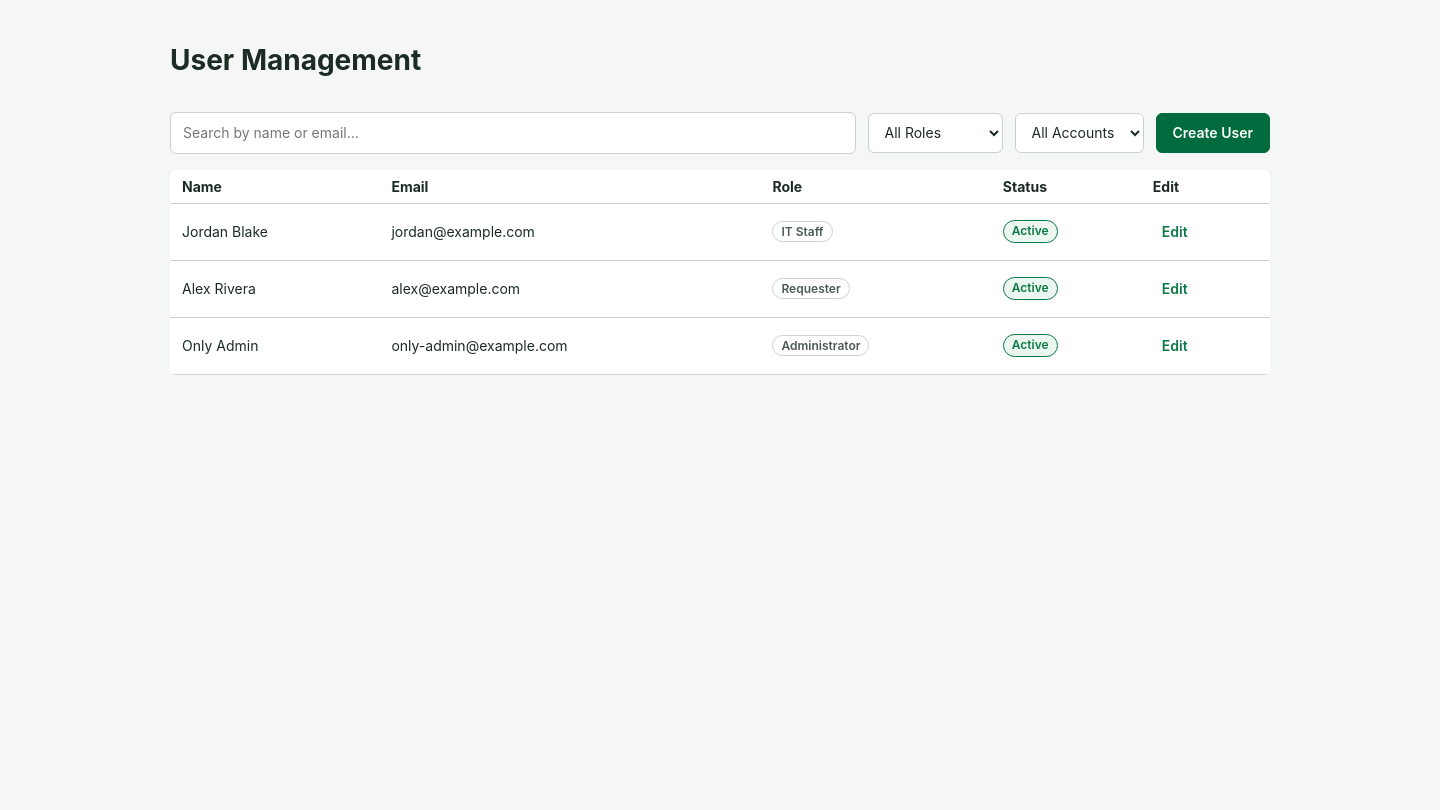
Test: UserManagement › on a 409 from the Create form, an inline message renders beside the Email field and form values are preserved
Click the button "Create User" at {"x": 1213, "y": 132}, box [1156,112,1270,152]
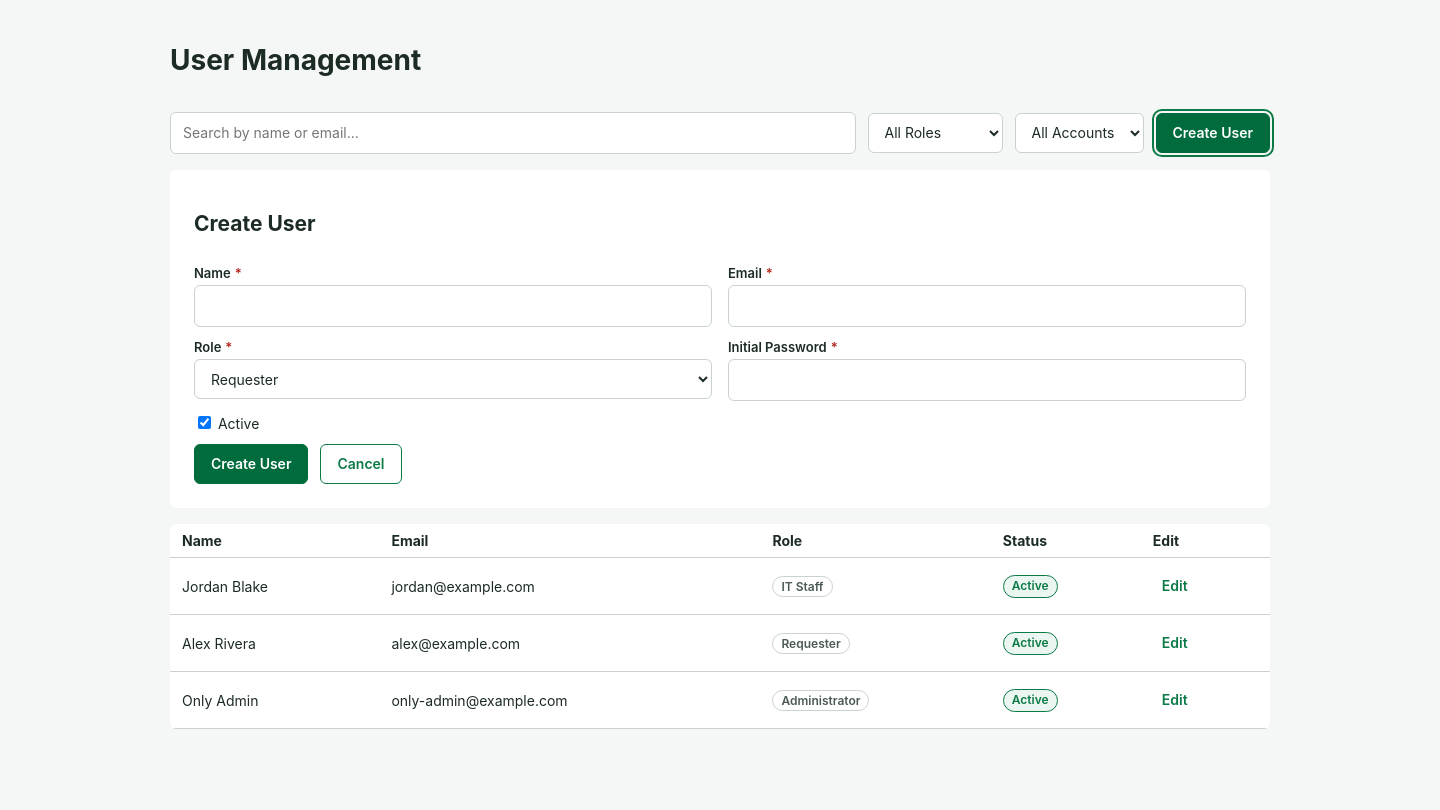
Type "Sam Okafor" into the field labelled "Name*" at {"x": 453, "y": 306}, box [194,285,712,327]
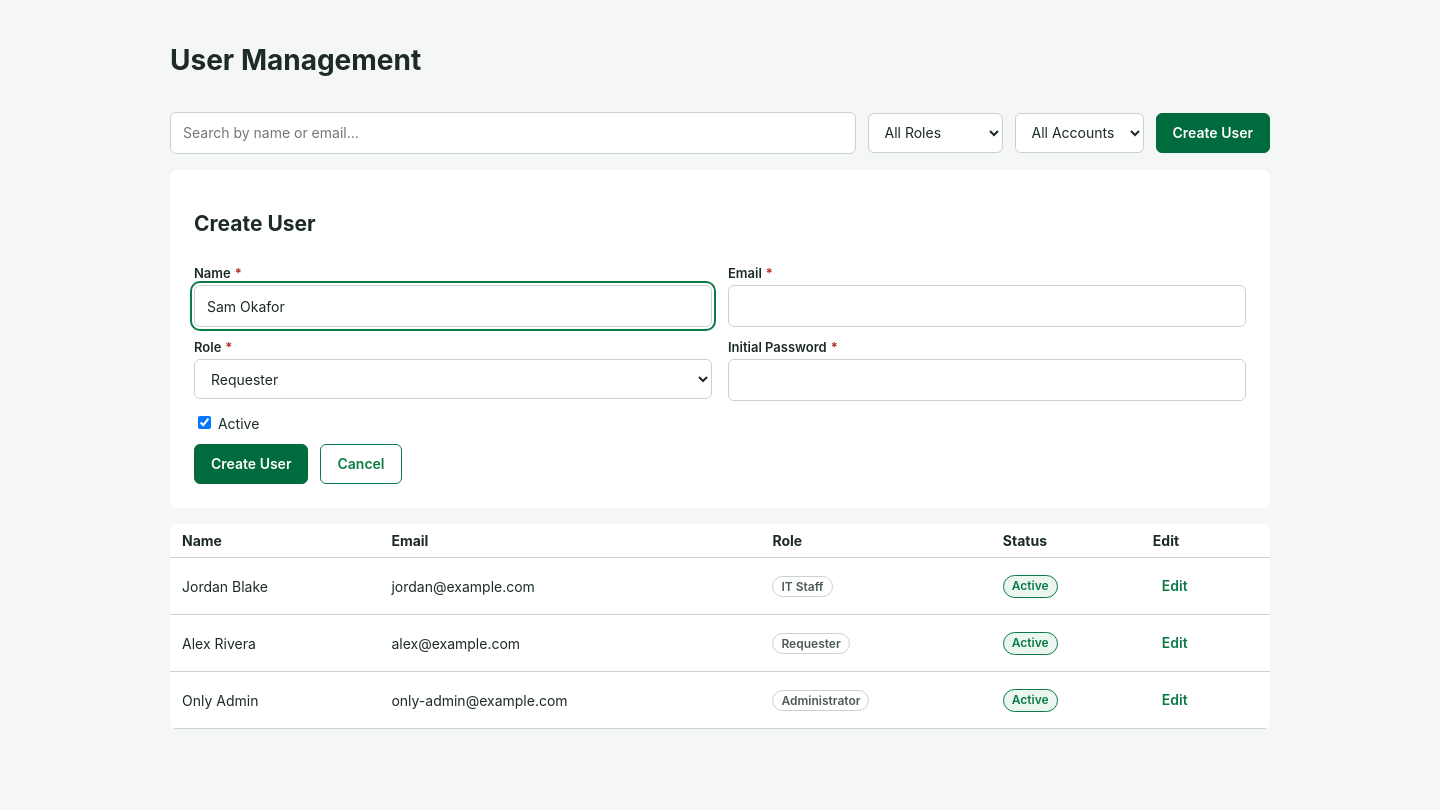
Type "taken@example.com" into the field labelled "Email*" at {"x": 987, "y": 306}, box [728,285,1246,327]
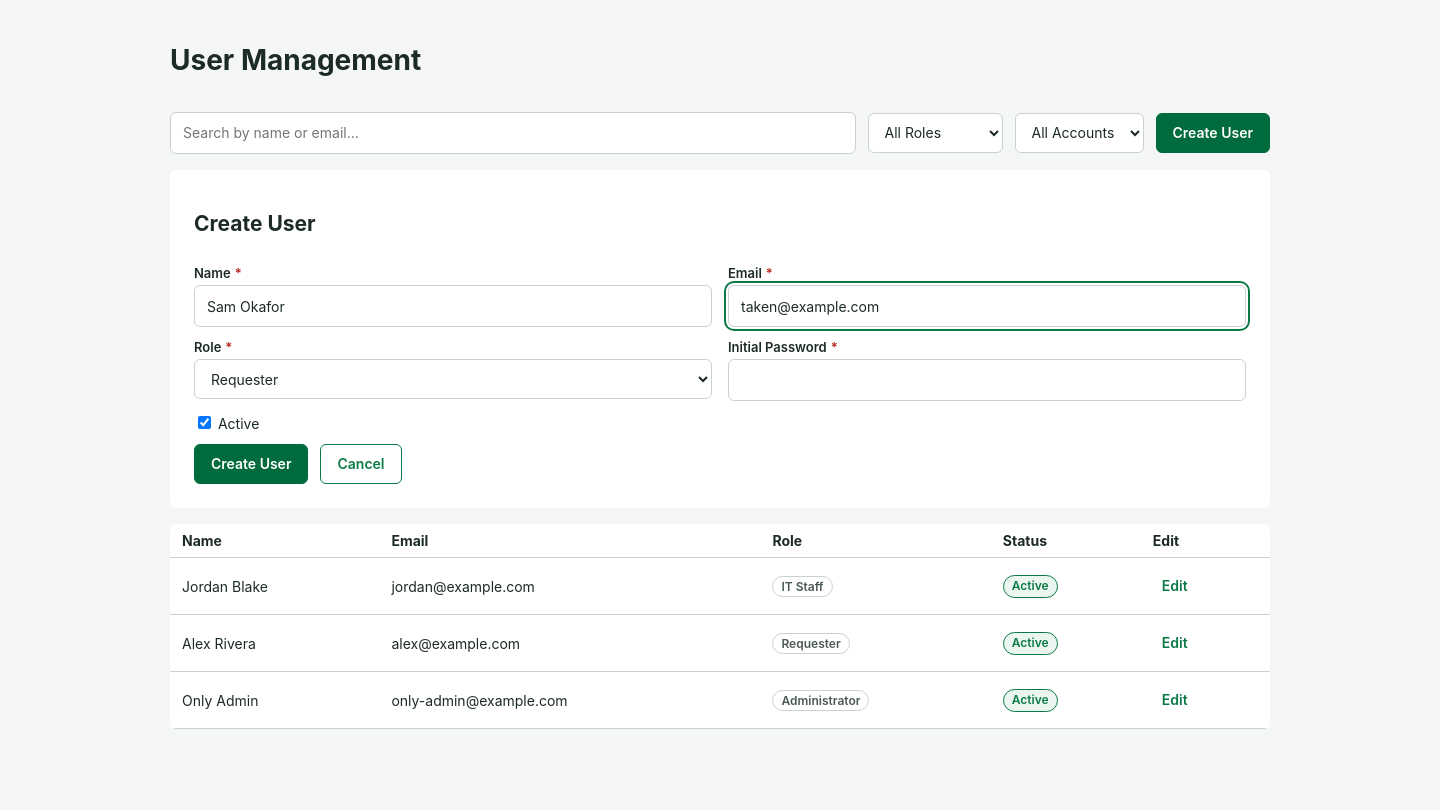
Type "Password1" into the password field labelled "Initial Password*" at {"x": 987, "y": 380}, box [728,359,1246,401]
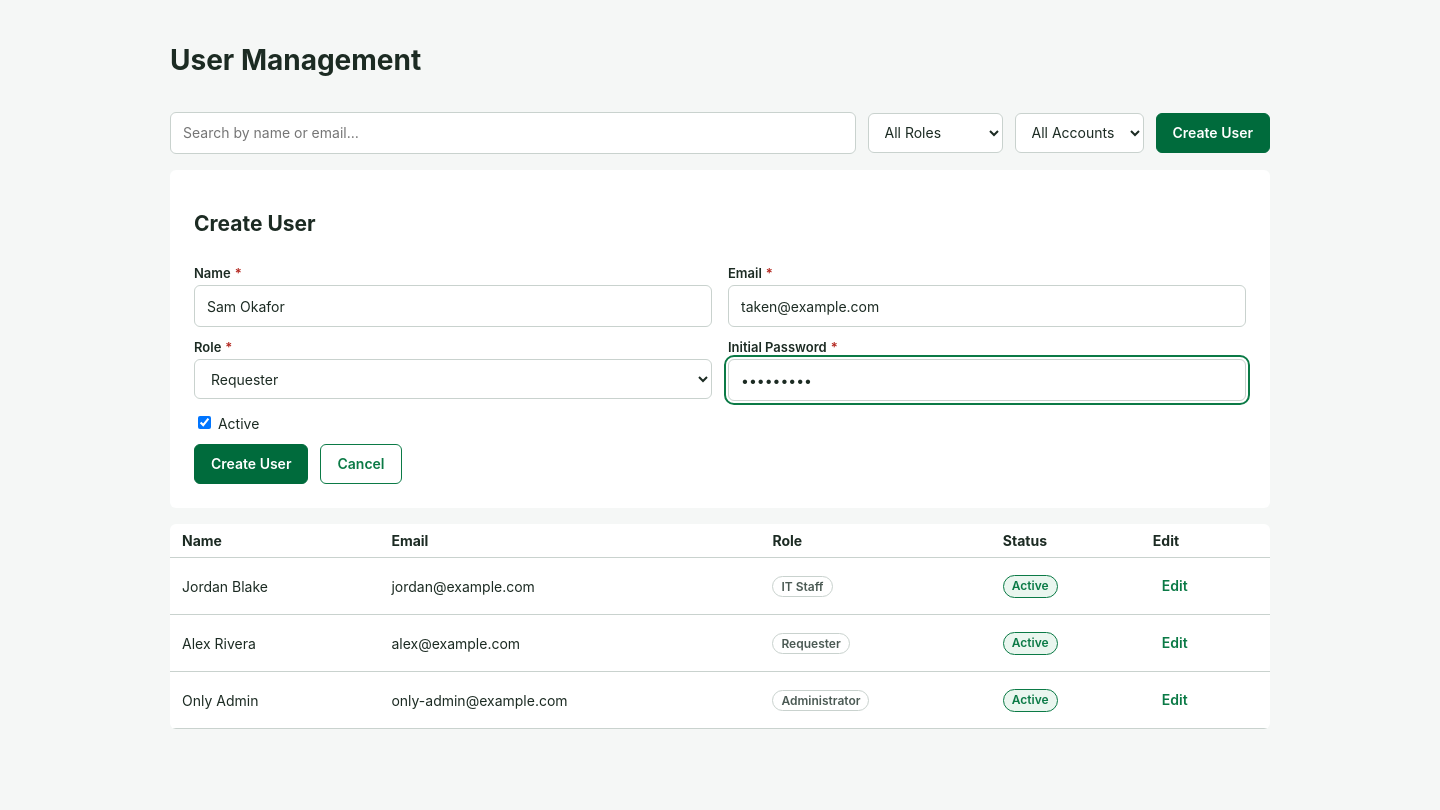
Click the 2nd button "Create User" at {"x": 251, "y": 464}, box [194,444,308,484]
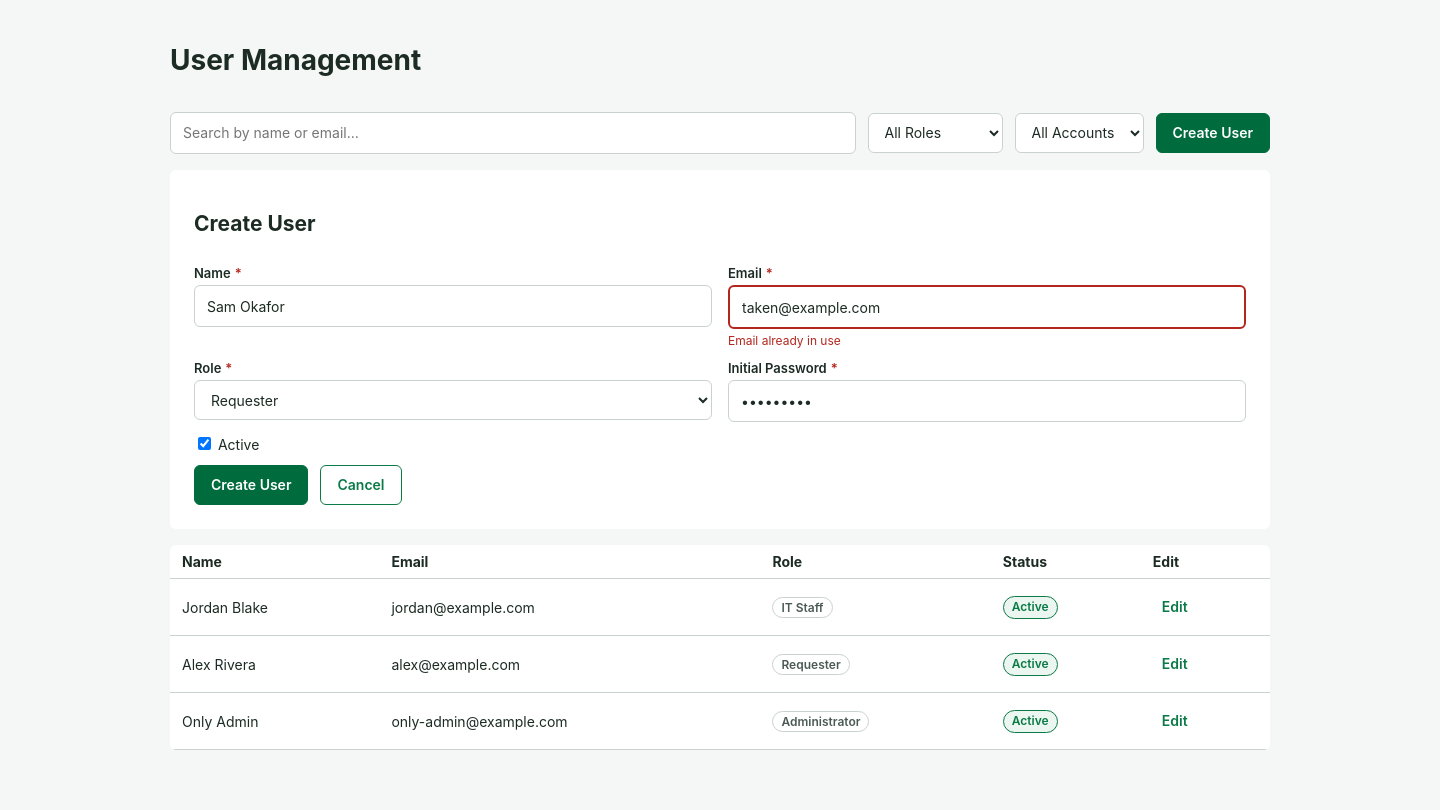
Expected: the text "Email already in use" is shown, [728,333,841,348]
